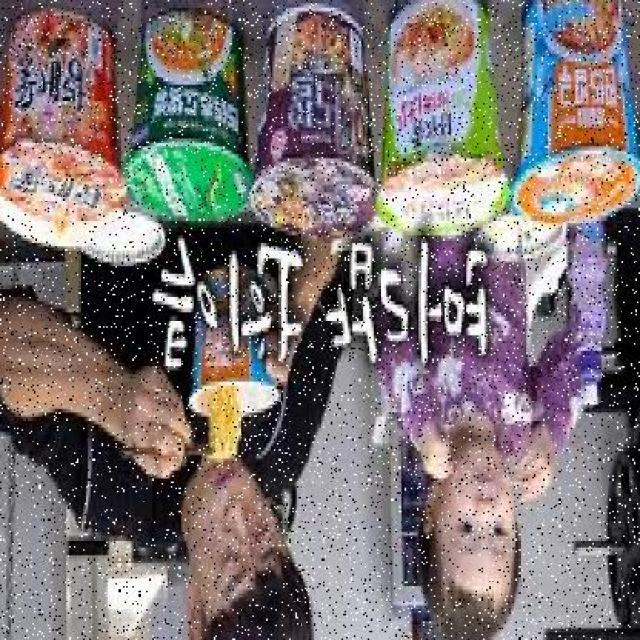Miscellaneous: (376, 0, 514, 243), (256, 9, 386, 237), (512, 0, 639, 232), (0, 15, 129, 228), (130, 17, 258, 231), (192, 273, 285, 429)
